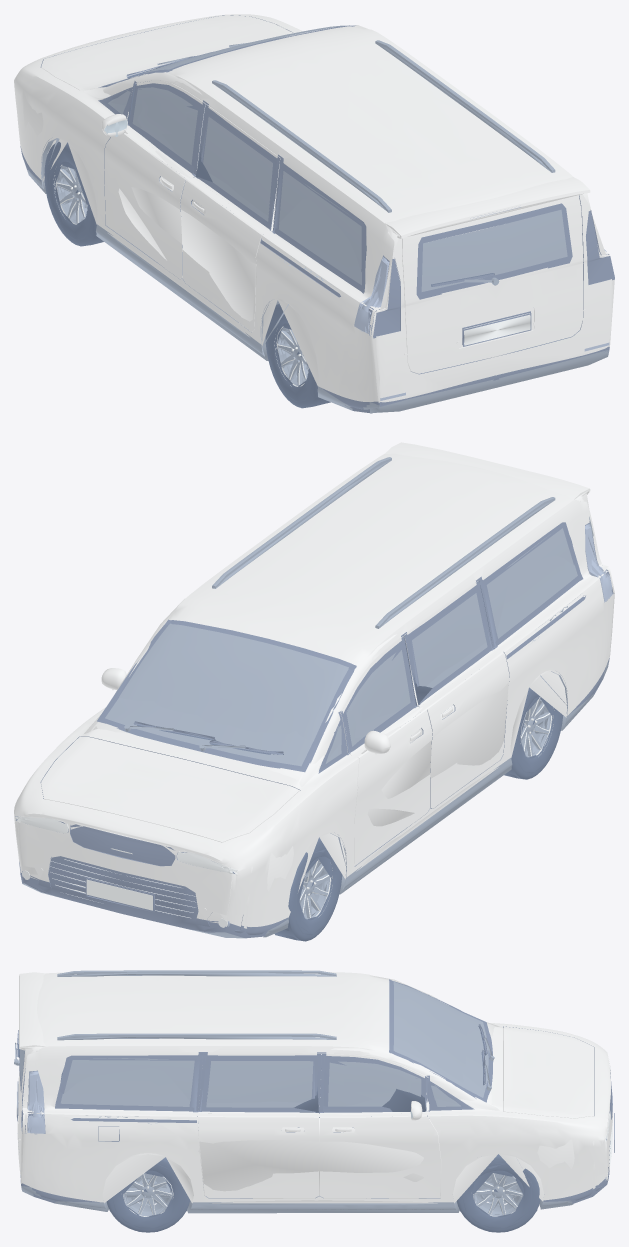
Rendered from minivan.glb.
3 renders of one model, top to bottom at view 1: azimuth 30°, elevation 25°; view 2: azimuth 150°, elevation 25°; view 3: azimuth 270°, elevation 25°, orthographic. The views are drawn at different scales.
Parts seen in each view (by area): view 1: near_body_mesh, street_body_mesh, near_body_glass_mesh, near_door_mesh, street_body_glass_mesh, far_body_mesh, near_wheel_fl_mesh, near_wheel_rl_mesh, street_door_mesh, near_door_glass_mesh, street_door_glass_mesh; view 2: near_body_mesh, street_body_mesh, near_body_glass_mesh, street_body_glass_mesh, near_door_mesh, far_body_mesh, near_wheel_fl_mesh, near_wheel_rl_mesh, street_door_mesh, near_door_glass_mesh, street_door_glass_mesh; view 3: near_body_mesh, street_body_mesh, near_body_glass_mesh, street_body_glass_mesh, far_body_mesh, near_wheel_fr_mesh, near_wheel_rr_mesh.
Part boxes in pixels (<box>): near_body_mesh: <box>14,14,612,409</box>; street_body_mesh: <box>14,25,614,413</box>; near_body_glass_mesh: <box>108,25,567,291</box>; near_door_mesh: <box>101,81,205,278</box>; street_body_glass_mesh: <box>108,44,361,270</box>; far_body_mesh: <box>43,57,614,408</box>; near_wheel_fl_mesh: <box>44,141,101,245</box>; near_wheel_rl_mesh: <box>265,303,326,407</box>; street_door_mesh: <box>102,88,202,278</box>; near_door_glass_mesh: <box>137,87,193,159</box>; street_door_glass_mesh: <box>132,90,197,164</box>; near_body_mesh: <box>14,442,614,934</box>; street_body_mesh: <box>15,460,614,941</box>; near_body_glass_mesh: <box>119,534,577,763</box>; street_body_glass_mesh: <box>105,528,573,766</box>; near_door_mesh: <box>340,636,432,866</box>; far_body_mesh: <box>18,493,608,934</box>; near_wheel_fl_mesh: <box>277,837,342,940</box>; near_wheel_rl_mesh: <box>507,687,563,779</box>; street_door_mesh: <box>342,643,431,826</box>; near_door_glass_mesh: <box>346,653,402,740</box>; street_door_glass_mesh: <box>346,650,410,746</box>; near_body_mesh: <box>14,970,614,1210</box>; street_body_mesh: <box>15,972,612,1231</box>; near_body_glass_mesh: <box>19,982,488,1107</box>; street_body_glass_mesh: <box>64,982,488,1106</box>; far_body_mesh: <box>21,980,609,1231</box>; near_wheel_fr_mesh: <box>456,1154,540,1232</box>; near_wheel_rr_mesh: <box>106,1157,190,1232</box>.
Size of the model in its own units: 2.25 by 1.74 by 5.15.
